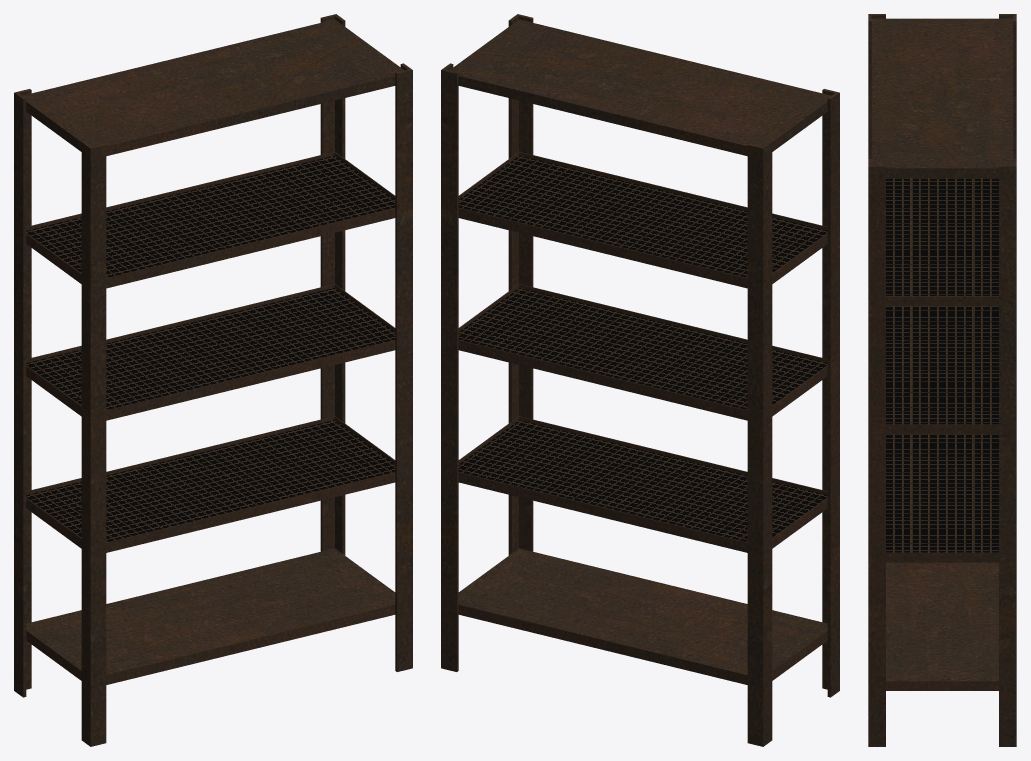
Rendered from shelf_mx_6.obj.
3 renders of one model, left to right at view 1: azimuth 30°, elevation 25°; view 2: azimuth 150°, elevation 25°; view 3: azimuth 270°, elevation 25°, orthographic. The views are drawn at different scales.
Visible parts, largest first — view 1: shelf_mx_6; view 2: shelf_mx_6; view 3: shelf_mx_6.
Boxes of the visible parts, x1=… form: shelf_mx_6: x1=14, y1=14, x2=412, y2=746; shelf_mx_6: x1=441, y1=14, x2=839, y2=746; shelf_mx_6: x1=868, y1=14, x2=1016, y2=746.
Bounding box in the file's own units: 1.02 × 1.81 × 0.42.
